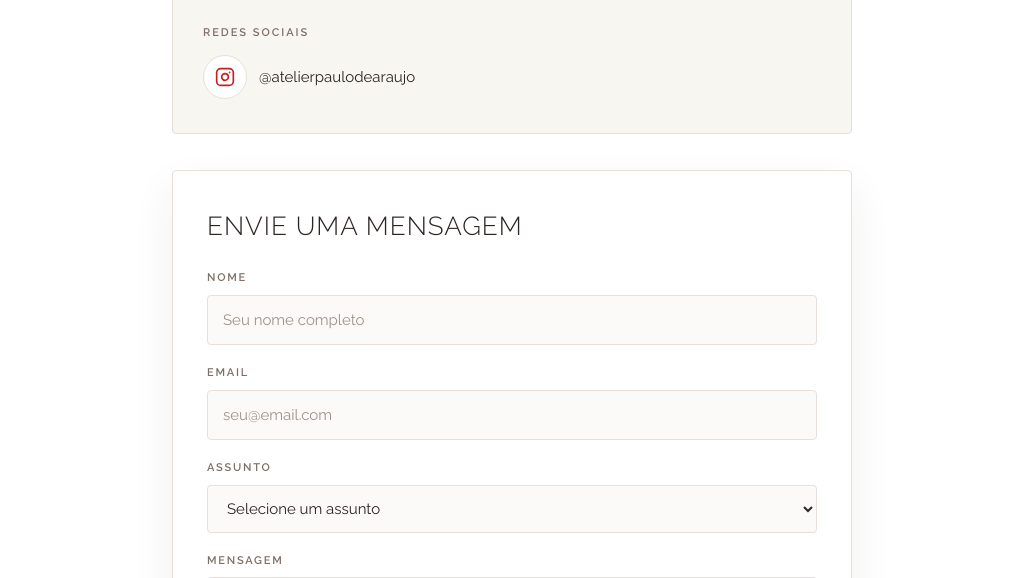
Test: Contact › posts the message to the FormSubmit endpoint and shows success
(page scrolled)
In the field labelled "Nome": (512, 320) [207,294,817,345], type "Maria"
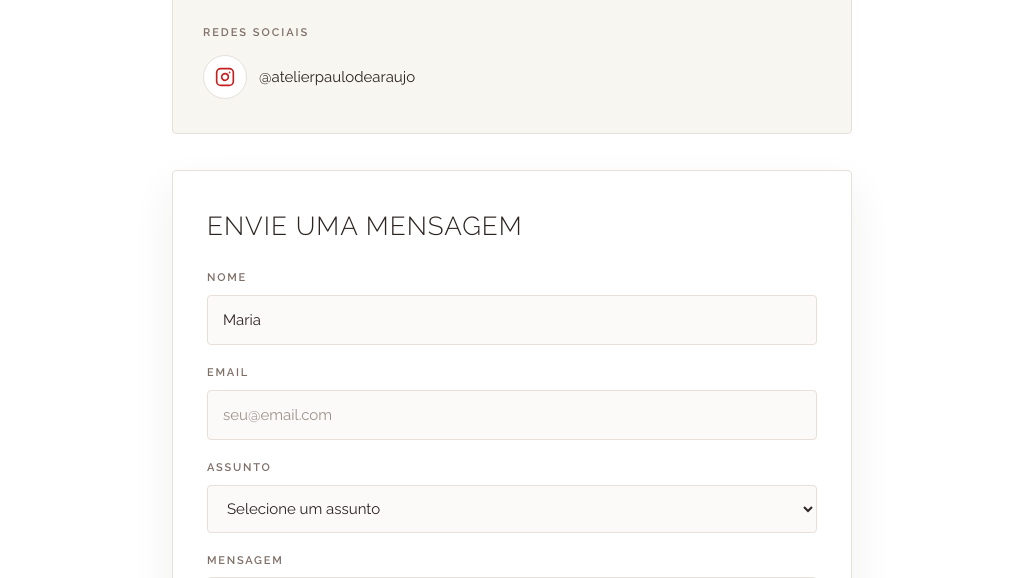
In the field labelled "Email": (512, 415) [207,390,817,440], type "maria@exemplo.com"
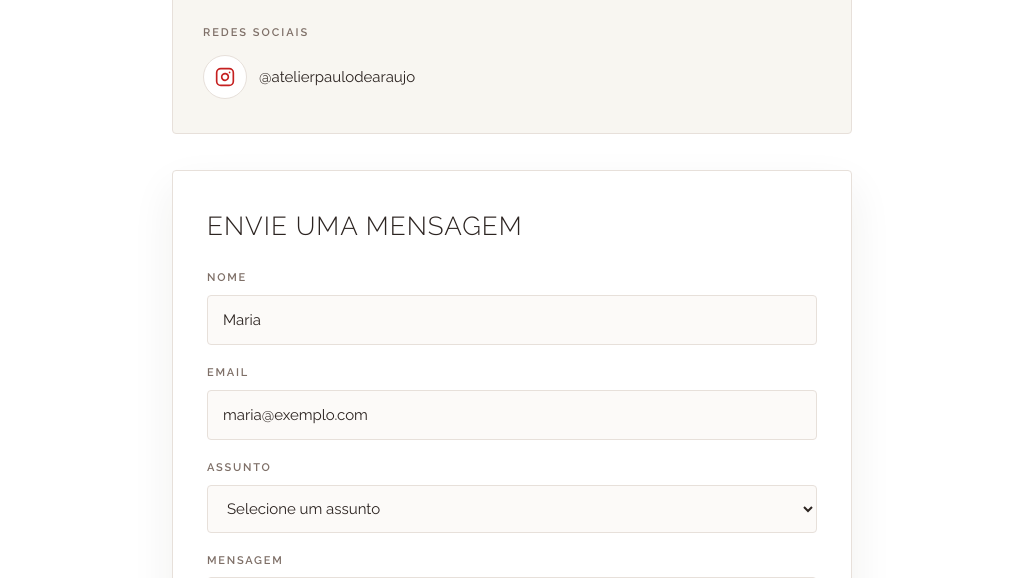
Select "Interesse em obra" in the dropdown labelled "Assunto": (512, 508) [207,484,817,532]
(page scrolled)
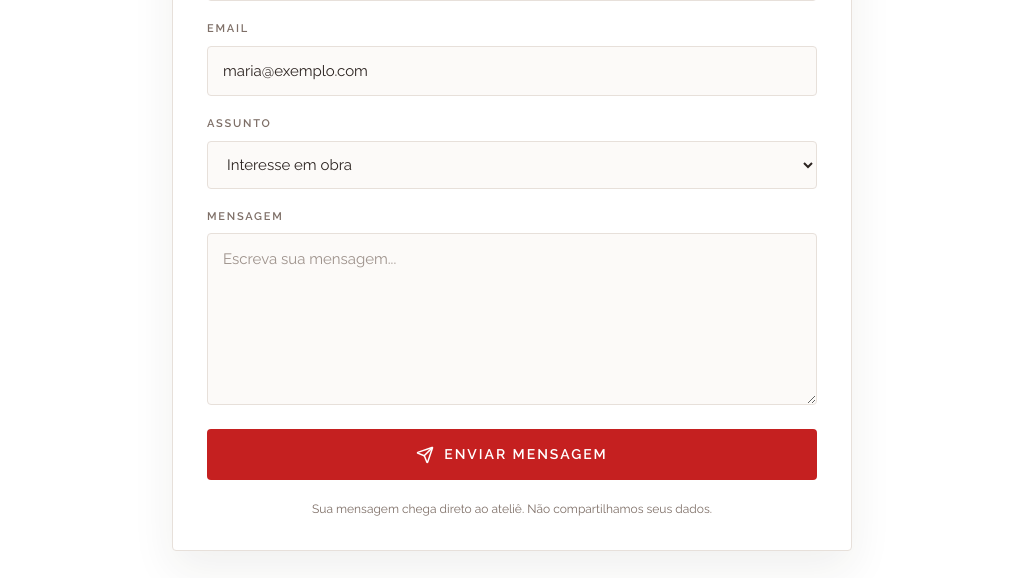
In the text box labelled "Mensagem": (512, 319) [207,233,817,405], type "Tenho interesse em uma obra."
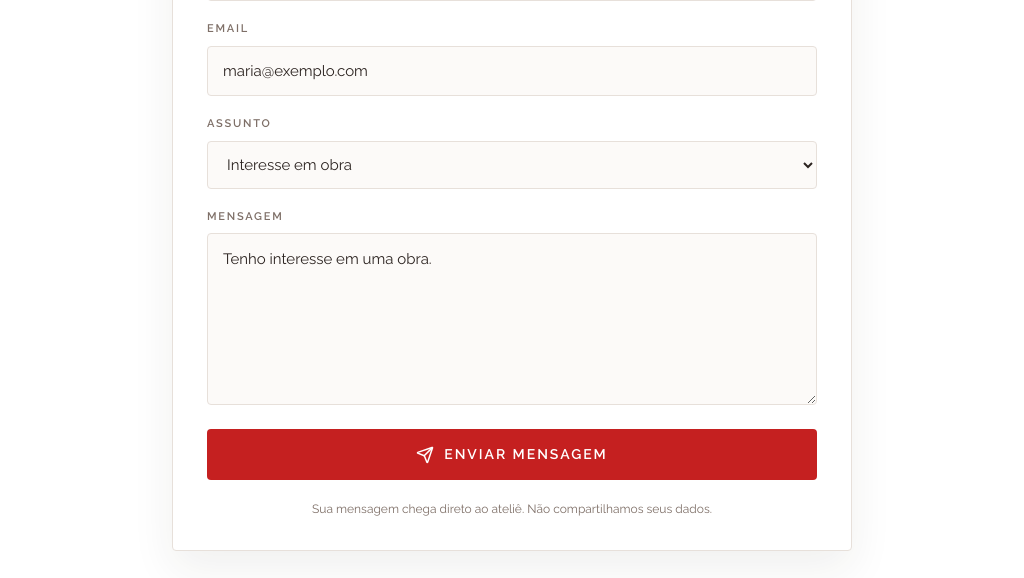
Click the button "Enviar Mensagem": (512, 454) [207,429,817,480]
(page scrolled)
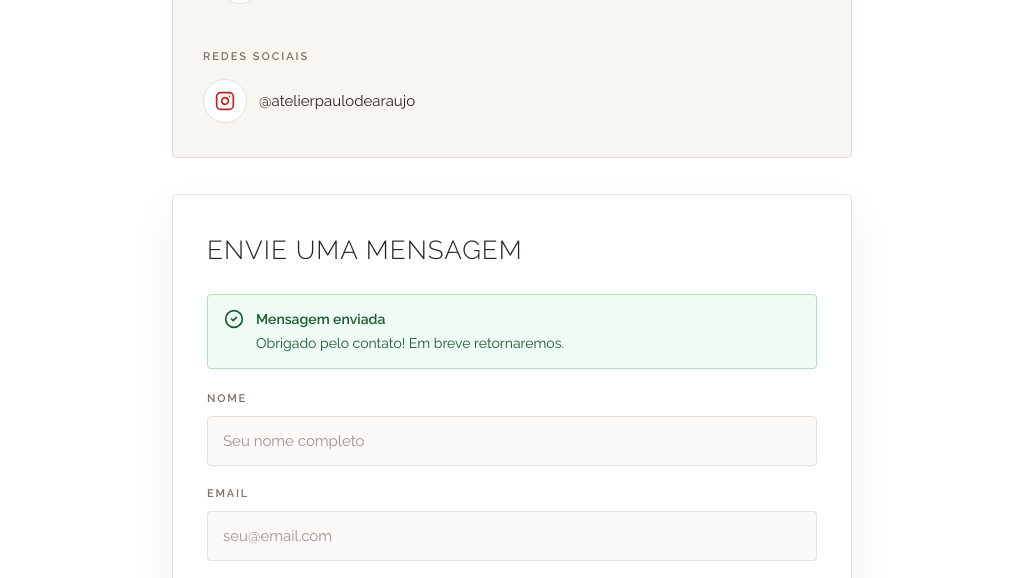
Check: the text "Mensagem enviada" is shown, box [256,311,385,327]
